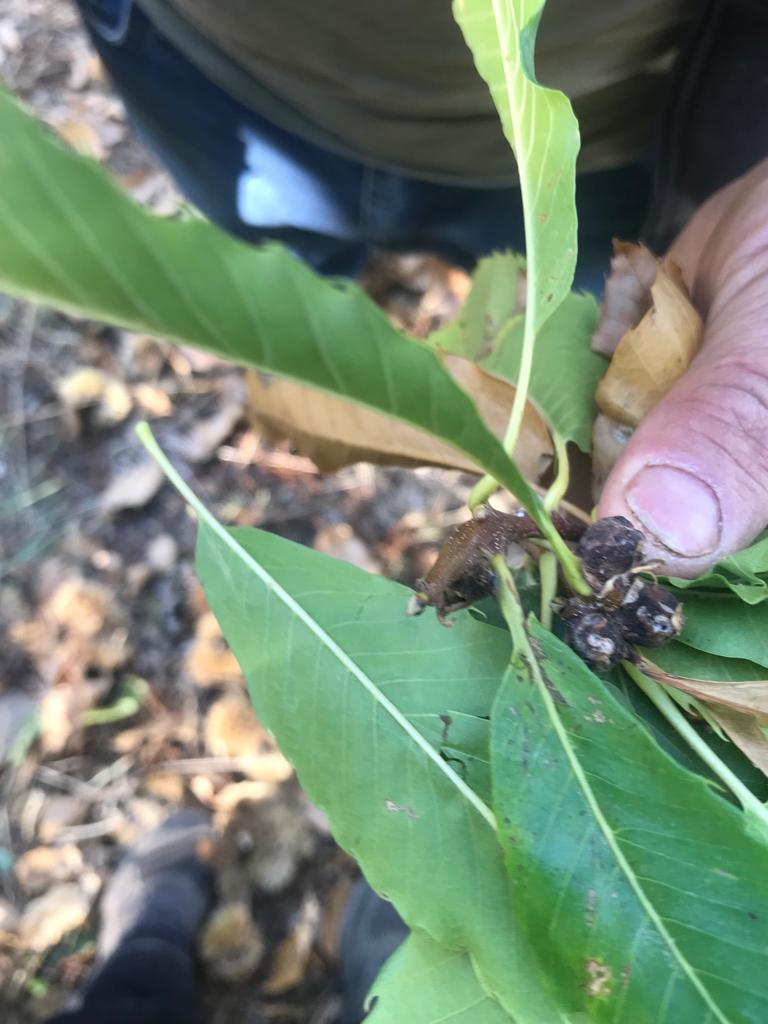galarisi: (435, 494, 697, 777)
